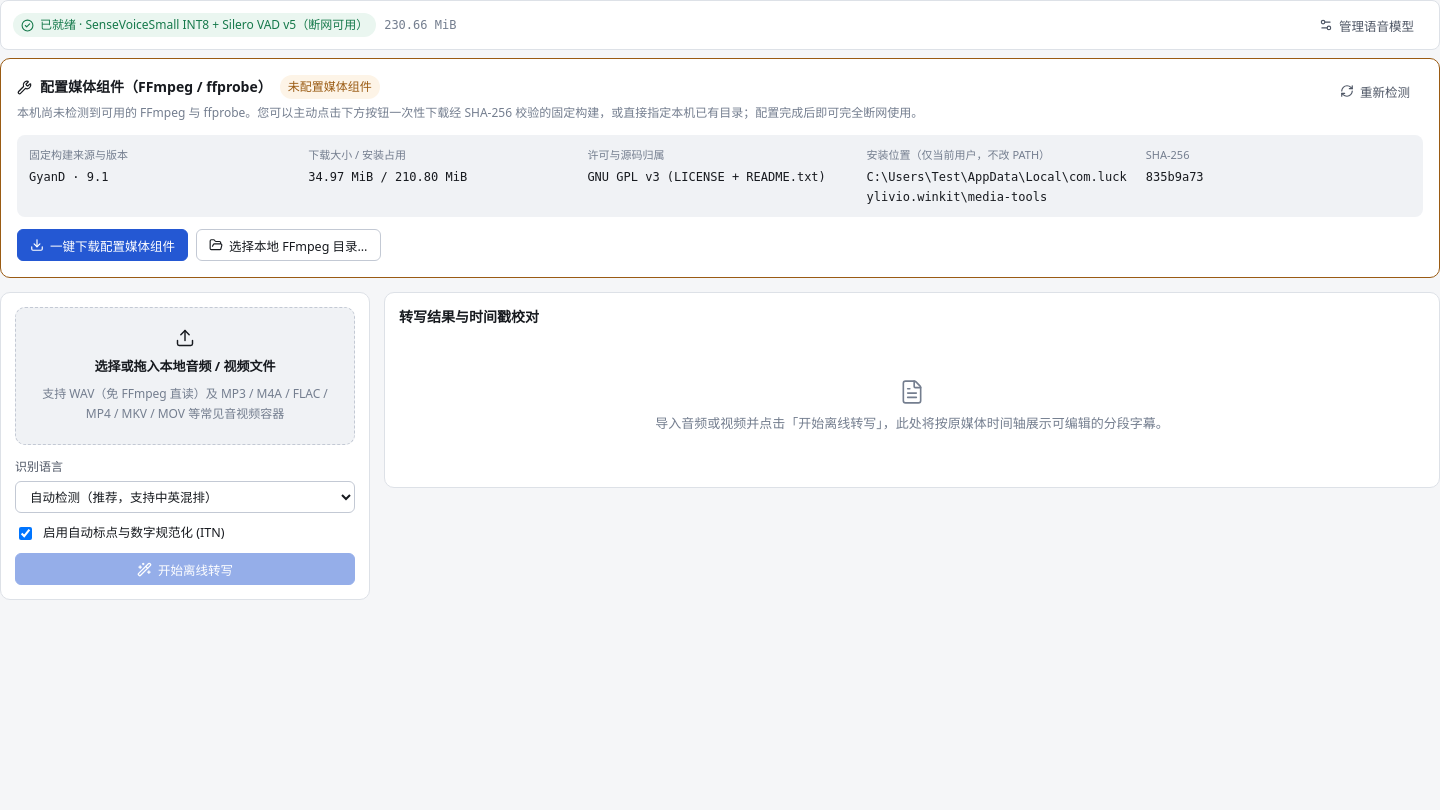
Test: TranscribeMediaWorkspace (T01) › prevents stale export results from attaching media A's V02 handoff button to media B
Check: the element with test id "asr-model-compact-bar" is shown, box [0, 0, 1439, 50]
Click the button with test id "t01-dropzone". click: (185, 376)
box: [15, 307, 355, 445]
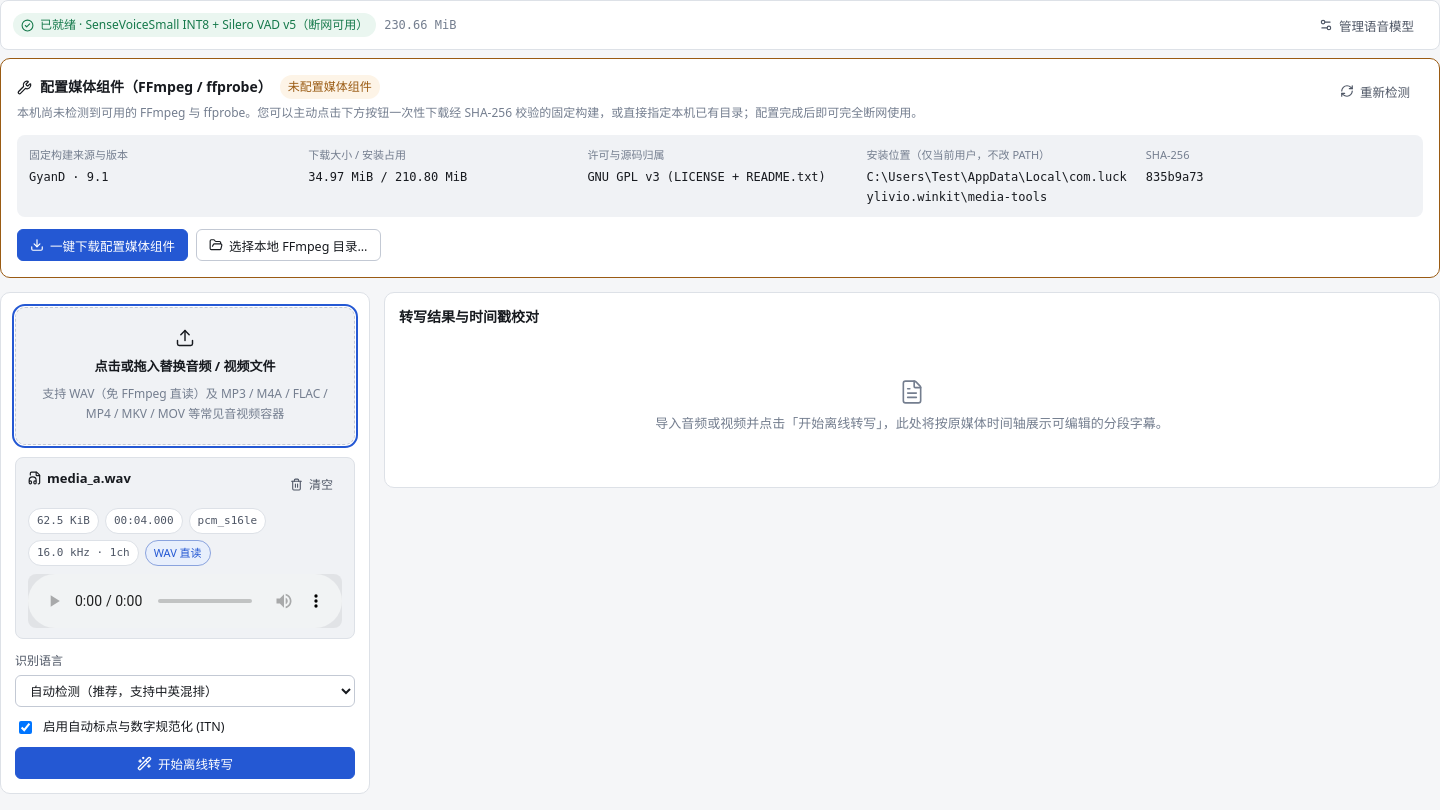
Check: the button with test id "t01-start-btn" is enabled
Click the button with test id "t01-start-btn". click: (185, 763)
box: [15, 747, 355, 779]
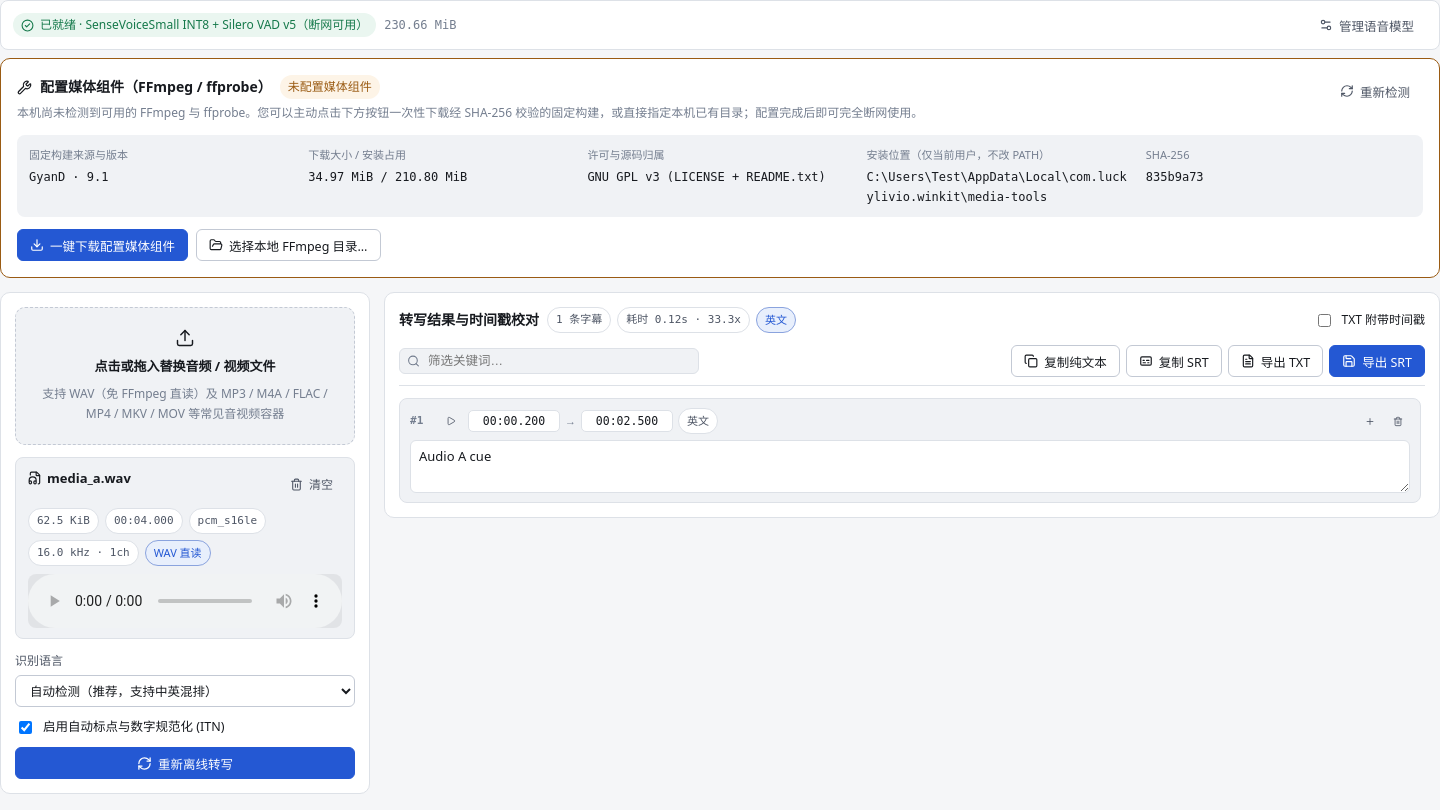
Check: the button with test id "t01-export-srt-btn" is enabled
// Begin exporting A (stays pending)
Click the button with test id "t01-export-srt-btn". click: (1377, 361)
box: [1329, 345, 1425, 377]
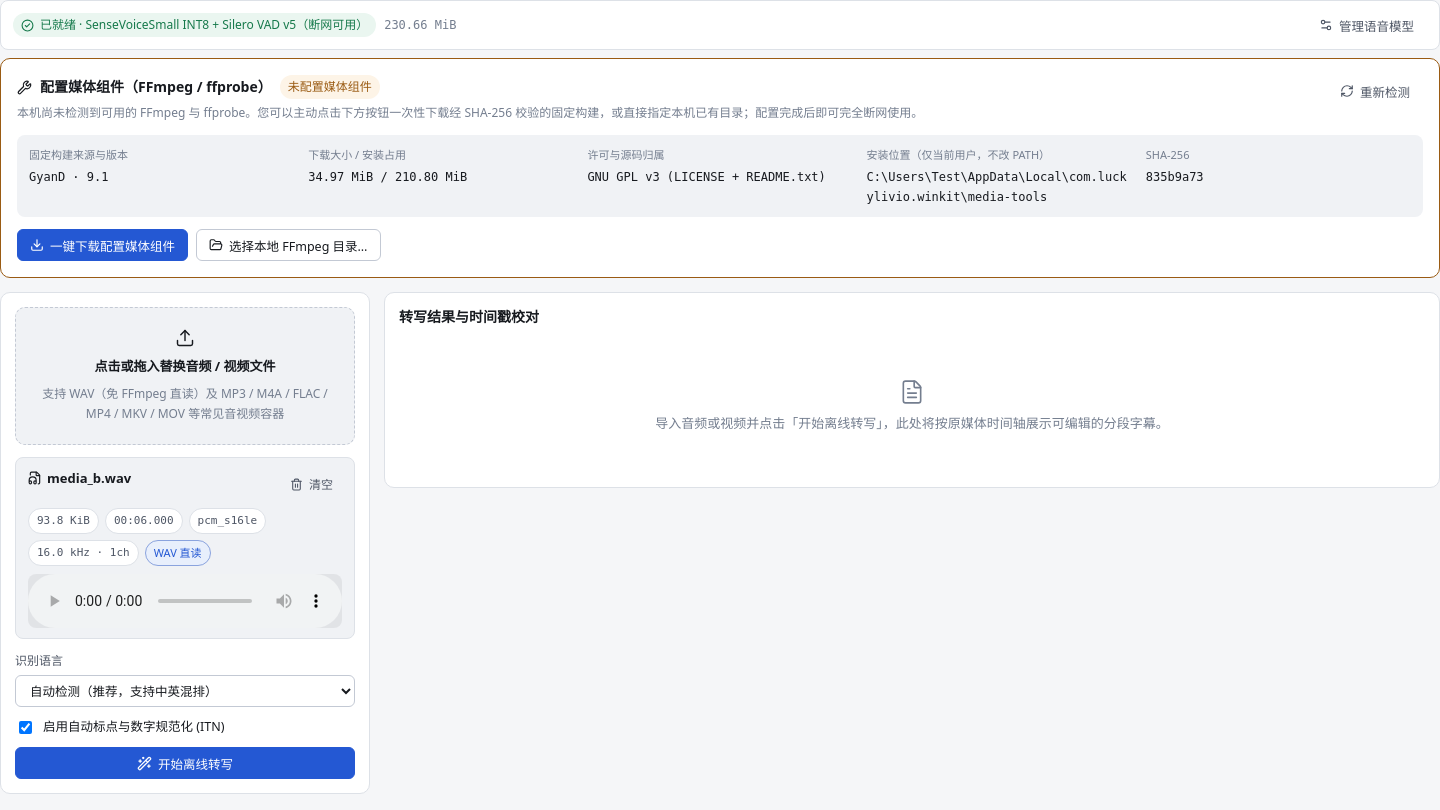
Check: the element with test id "t01-source-meta" shows "media_b.wav", box [47, 469, 131, 487]
